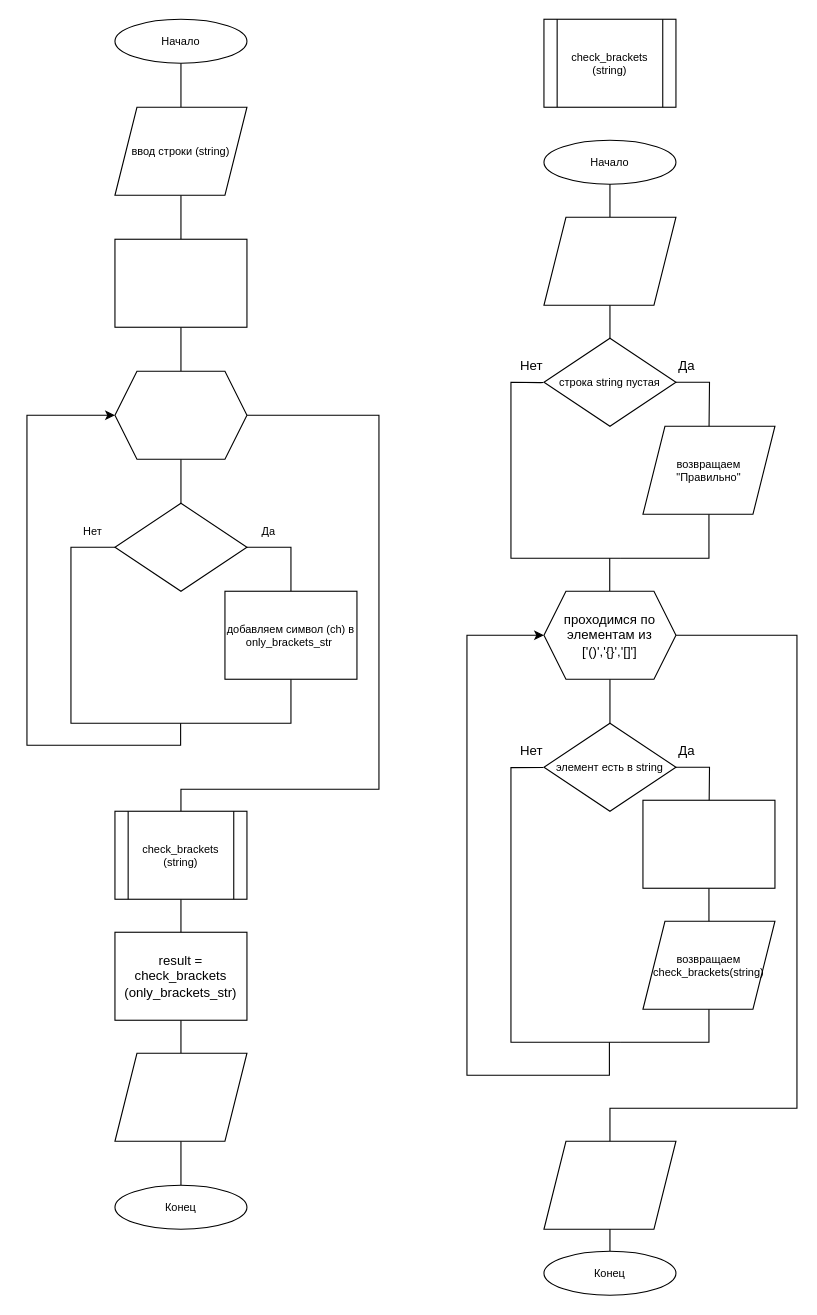
Some shapes in this 817 by 1315 pixel diagram are drawn without their labels. Here are the shapes that lost their labels. From the top down, the box of each, then its label:
(543, 216, 676, 305): получаем строку string
(114, 238, 247, 327): пустая строка only_brackets_str
(114, 370, 247, 459): перебор символов (ch) в исходной строке
(114, 502, 247, 591): символ среди '(){}[]'
(642, 799, 775, 888): удаляем элемент из string
(114, 1052, 247, 1141): вывод результата работы функции (result)
(543, 1140, 676, 1229): возвращаем 'Неправильно'
